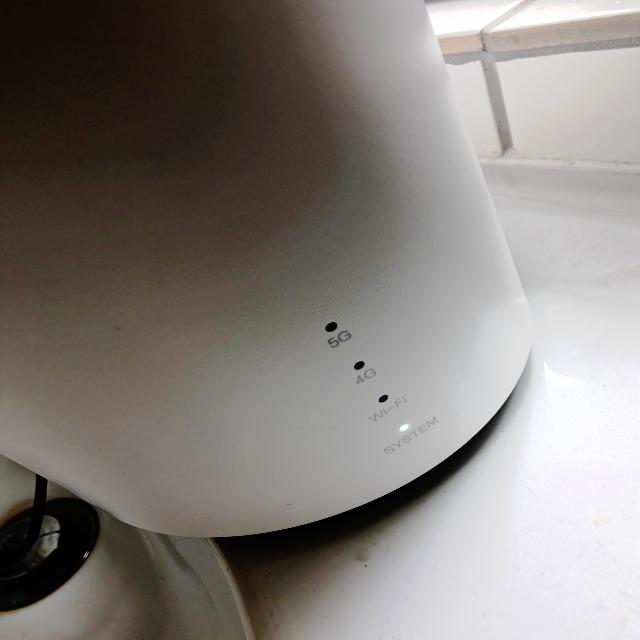modem: (0, 0, 542, 544)
off: (343, 355, 373, 375), (370, 386, 396, 408), (320, 318, 341, 338)
on: (389, 418, 423, 440)
